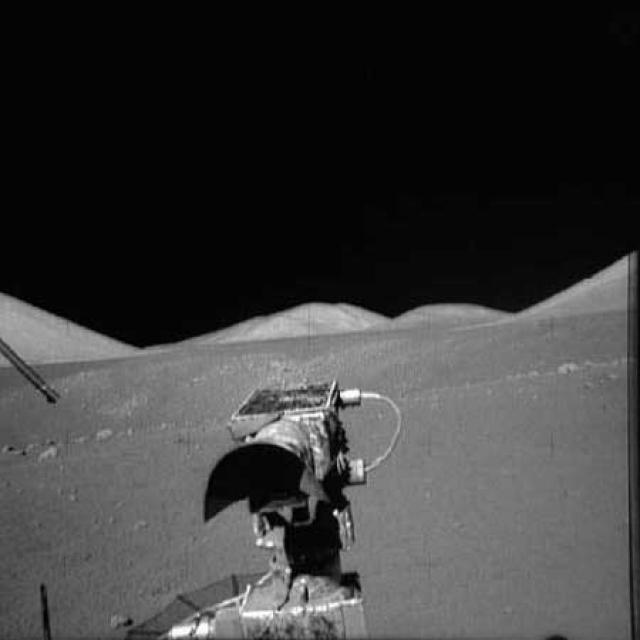artifact: (110, 372, 408, 638), (0, 329, 62, 411)
rock: (31, 440, 70, 467)
